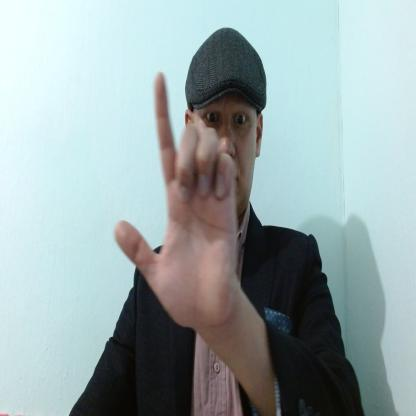L: (114, 71, 237, 329)
